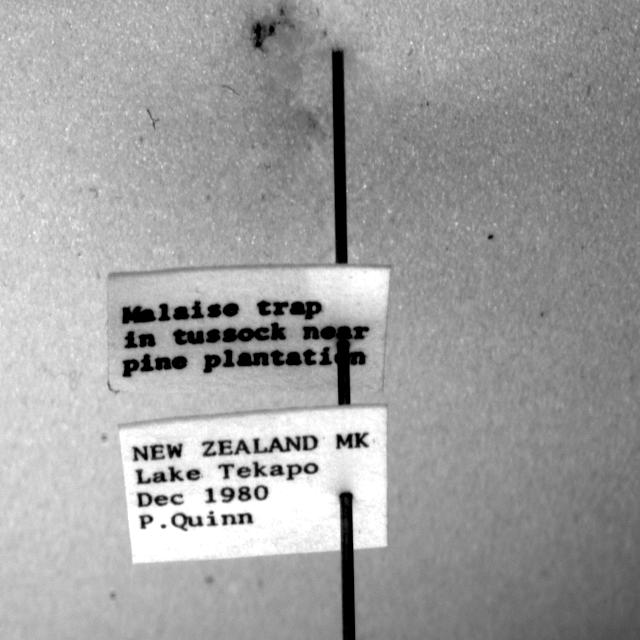typed_label: (120, 405, 388, 562), (108, 264, 390, 392)
